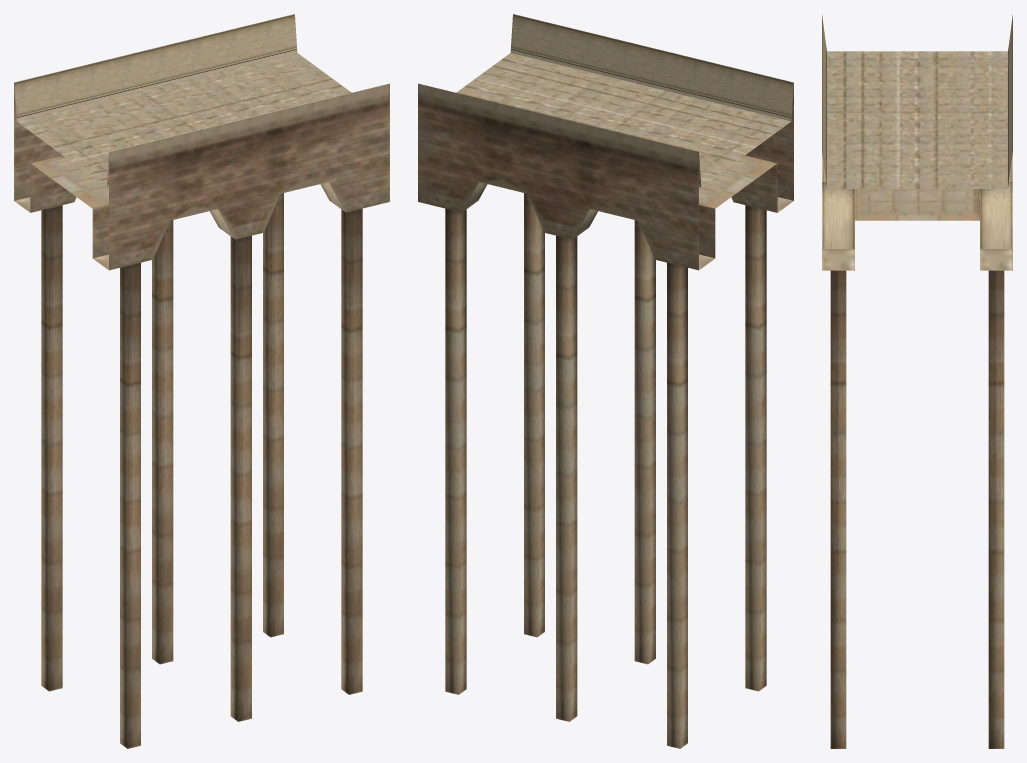
File: thm_nboo_imprv_elevated_walkway_s01_l3.fbx
3 views of the same model, side by side, from view 1: azimuth 30°, elevation 25°; view 2: azimuth 150°, elevation 25°; view 3: azimuth 270°, elevation 25° (orthographic).
Parts seen in each view (by area): view 1: mesh_node; view 2: mesh_node; view 3: mesh_node.
Boxes of the visible parts, x1,y1,x2,y2 form: mesh_node: (14, 14, 389, 748); mesh_node: (418, 14, 793, 748); mesh_node: (822, 15, 1012, 748).
Bounding box in the file's own units: 8.88 × 18.3 × 5.2.
